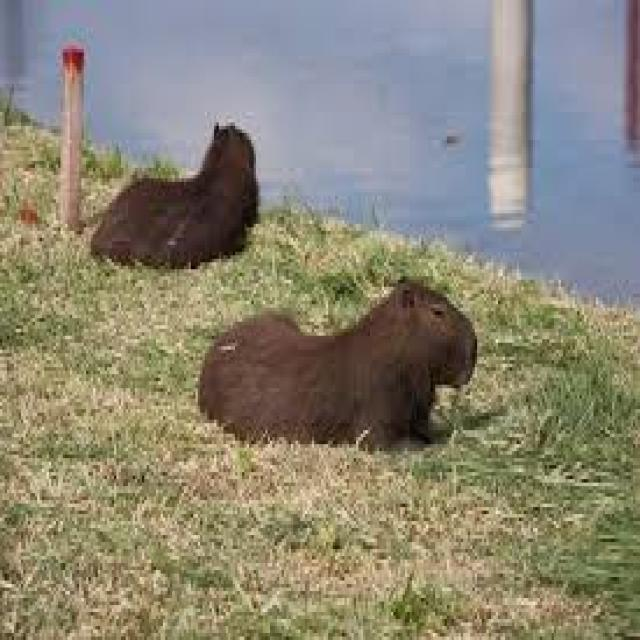capy: (197, 275, 476, 455), (92, 122, 260, 272)
